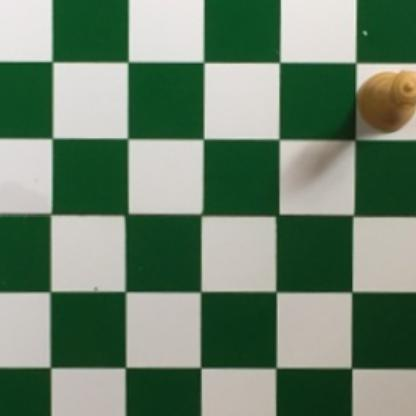white-queen: (358, 68, 416, 134)
